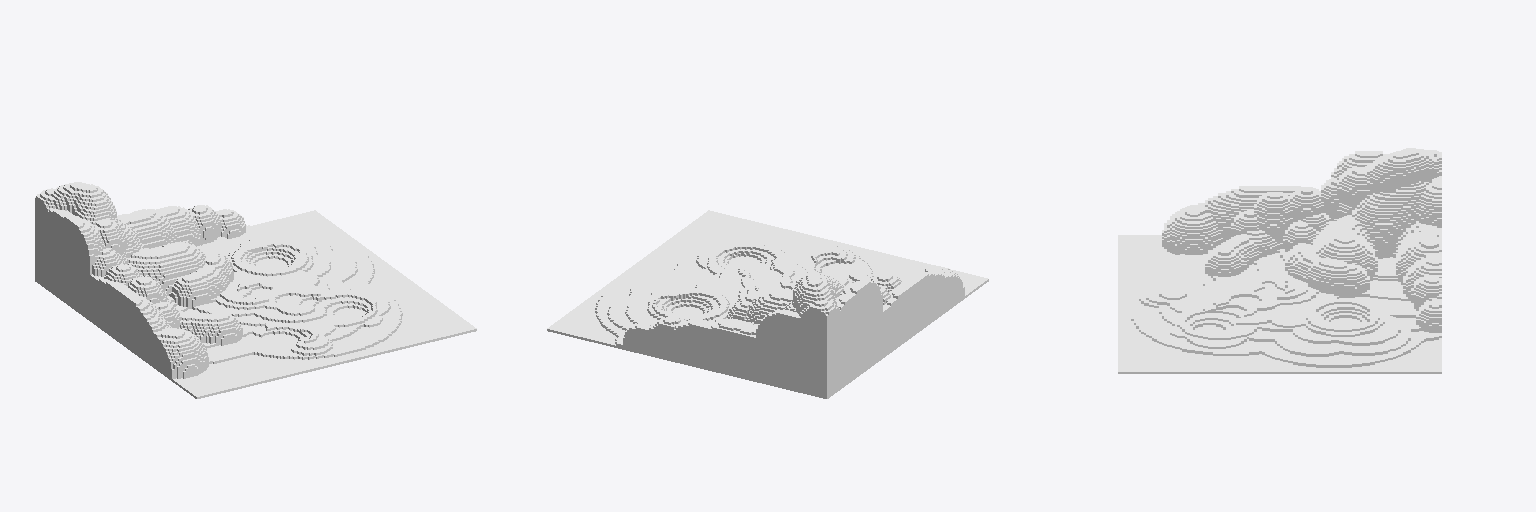
Rendered from LunarBorder4.obj.
3 views of the same model, side by side, from view 1: azimuth 30°, elevation 25°; view 2: azimuth 150°, elevation 25°; view 3: azimuth 270°, elevation 25° (orthographic).
Size of the model in its own units: 126 by 43 by 126.